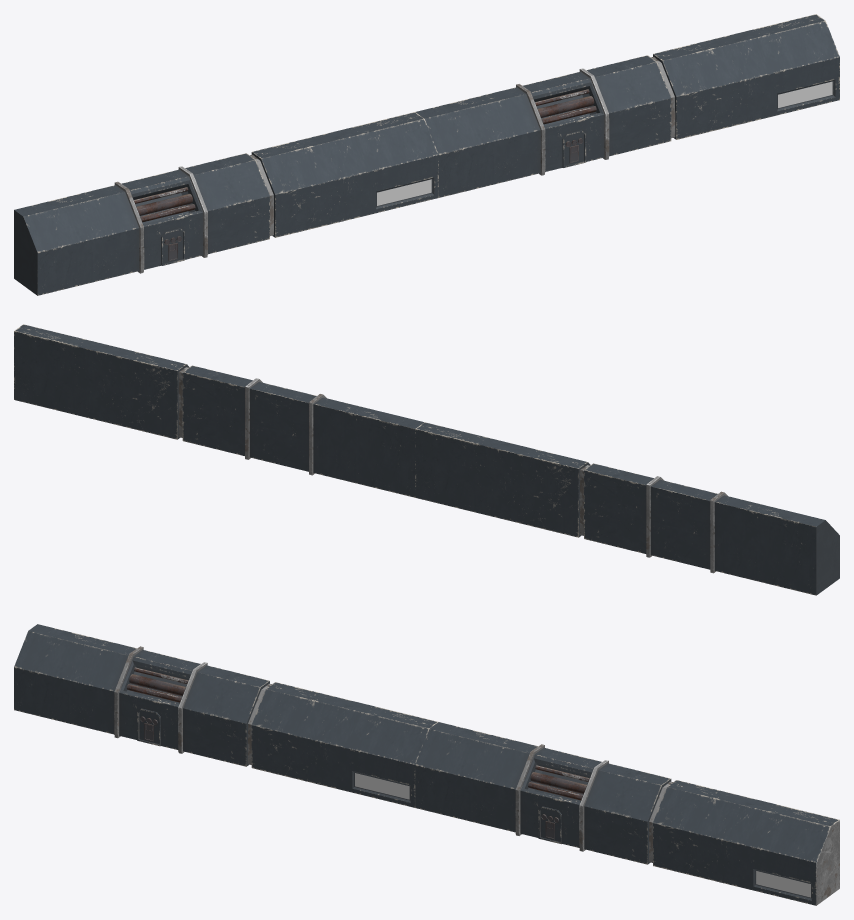
The model's file is skirtingboard_single.fbx.
The picture shows the model from 3 angles, top to bottom: view 1: azimuth 30°, elevation 25°; view 2: azimuth 150°, elevation 25°; view 3: azimuth 330°, elevation 25°; orthographic projection.
Visible parts, largest first — view 1: skirtingboard.001; view 2: skirtingboard.001; view 3: skirtingboard.001.
Part boxes in pixels (x1,y1,x2,y2): skirtingboard.001: (14,14,839,295); skirtingboard.001: (14,324,839,595); skirtingboard.001: (14,624,839,905).
Bounding box in the file's own units: 391 × 33.96 × 21.94.
